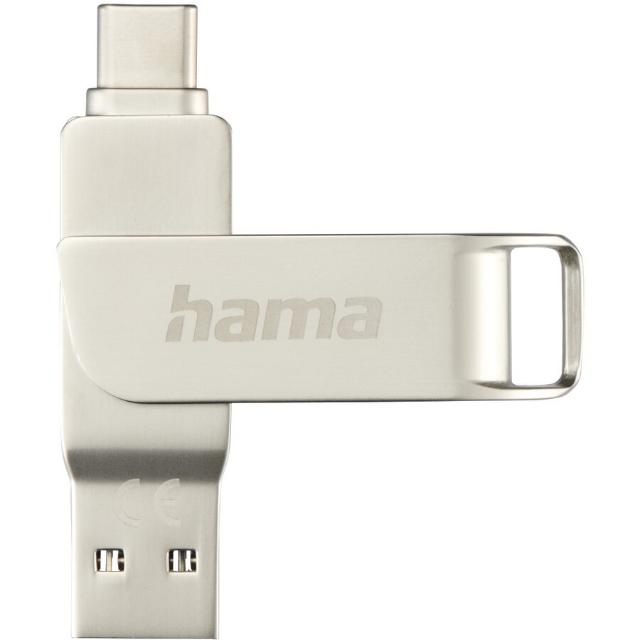USB-Flash-Drive: (56, 1, 232, 640)
